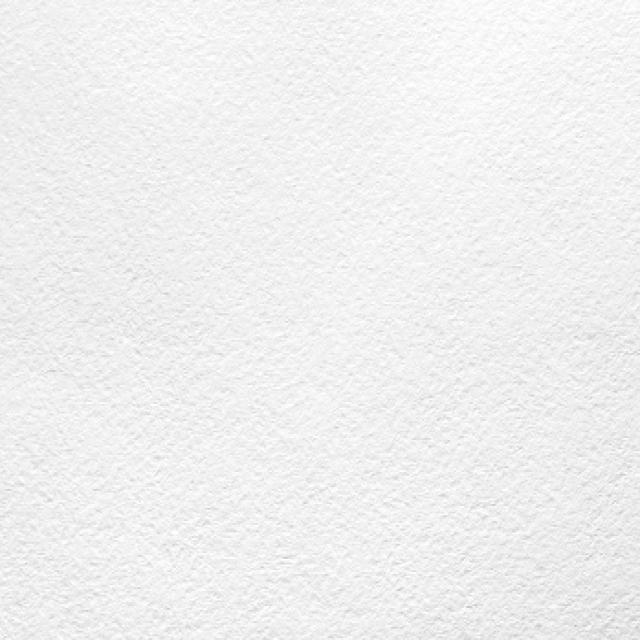rough and patchy surface: (3, 3, 636, 638)
